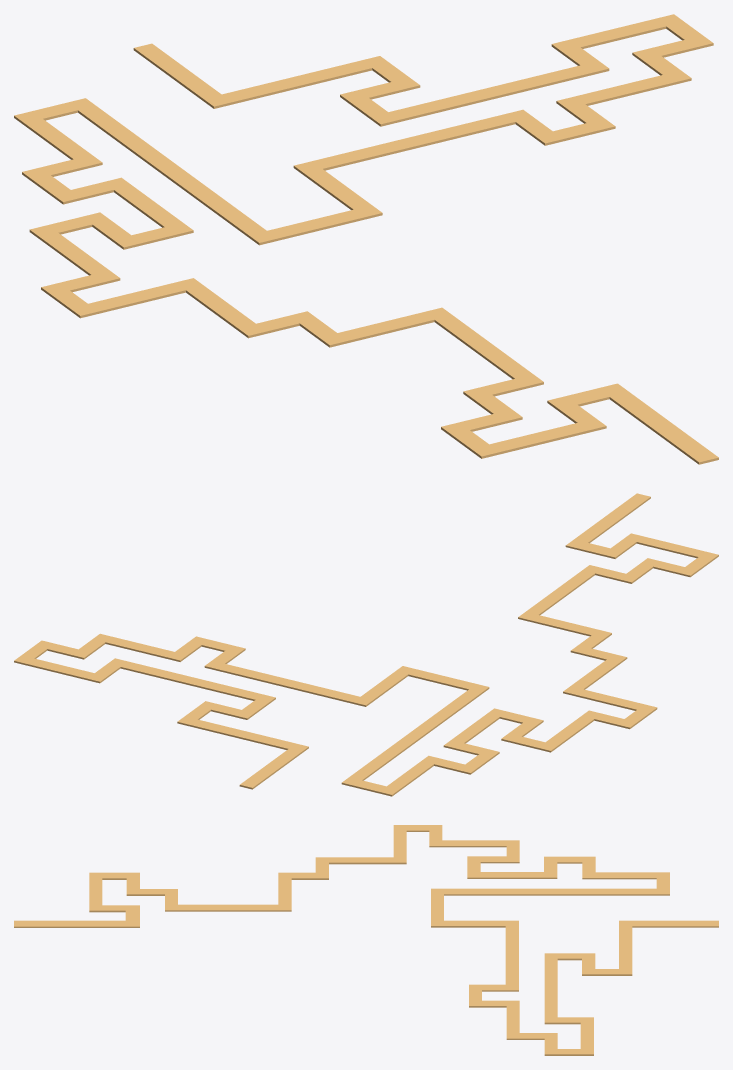
File: mazeRoute.gltf
The picture shows the model from 3 angles, top to bottom: view 1: azimuth 30°, elevation 25°; view 2: azimuth 150°, elevation 25°; view 3: azimuth 270°, elevation 25°; orthographic projection. The views are drawn at different scales.
Visible parts, largest first — view 1: Cube; view 2: Cube; view 3: Cube.
Boxes of the visible parts, left/top/right/bottom form: Cube: left=14, top=14, right=718, bottom=464; Cube: left=14, top=493, right=718, bottom=796; Cube: left=14, top=825, right=718, bottom=1055.
Size of the model in its own units: 8.24 by 0.0247 by 10.71.
